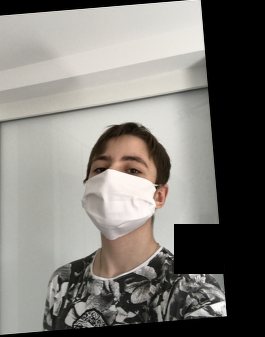with_mask: (81, 148, 158, 243)
